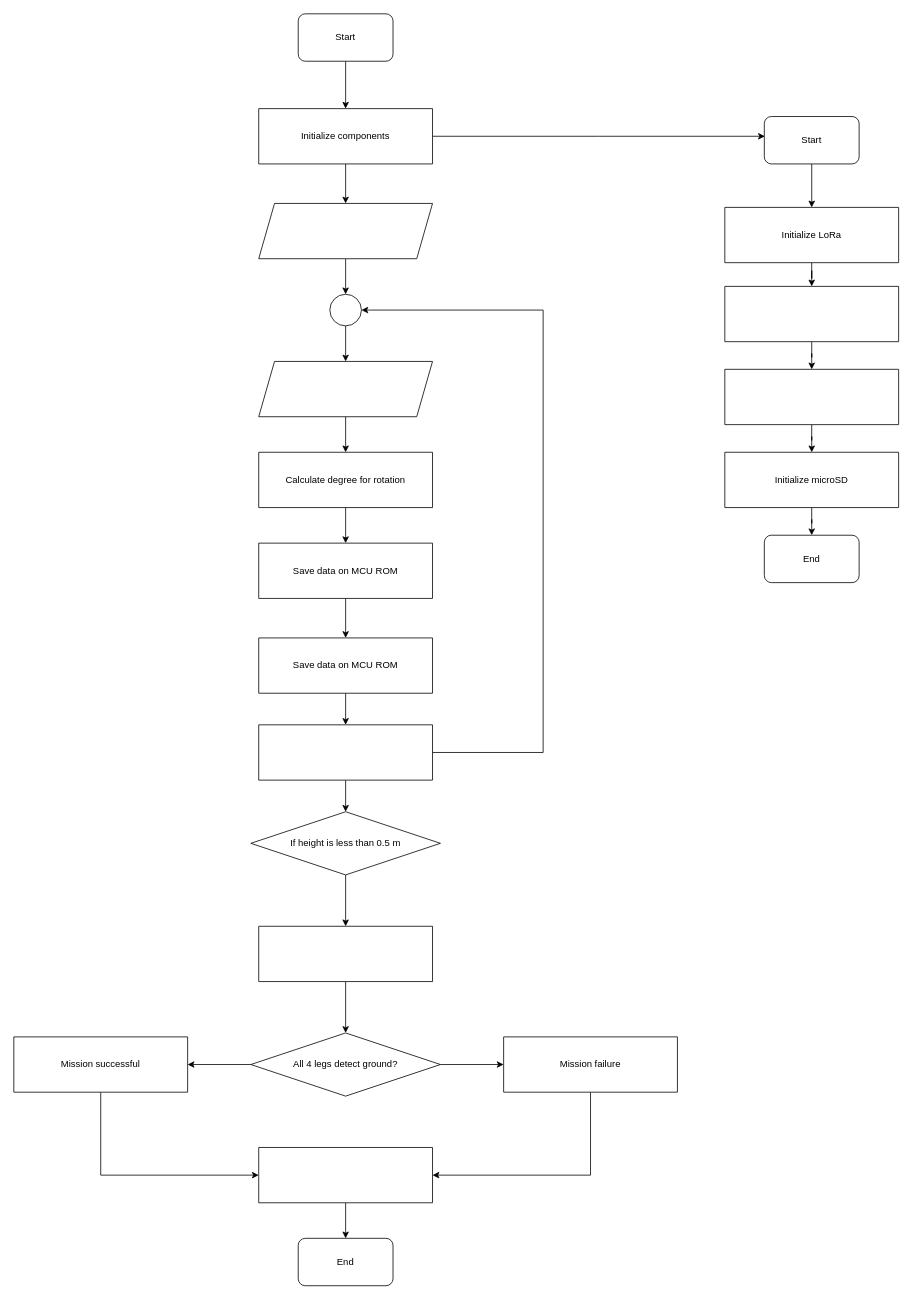
The diagram is 912 pixels wide and 1300 high, and some of its shapes have lost their labels. Each missing label, with the centre of its shape:
"Initialize BMI160" goes at point 811,314.
"Initialize BMP580" goes at point 811,397.
"Polling for height" goes at point 345,389.
"Print starting text" goes at point 345,231.
"Save data for LoRa" goes at point 345,752.
"Stop recording height" goes at point 345,1175.
"Wait for 5 sec" goes at point 345,953.
